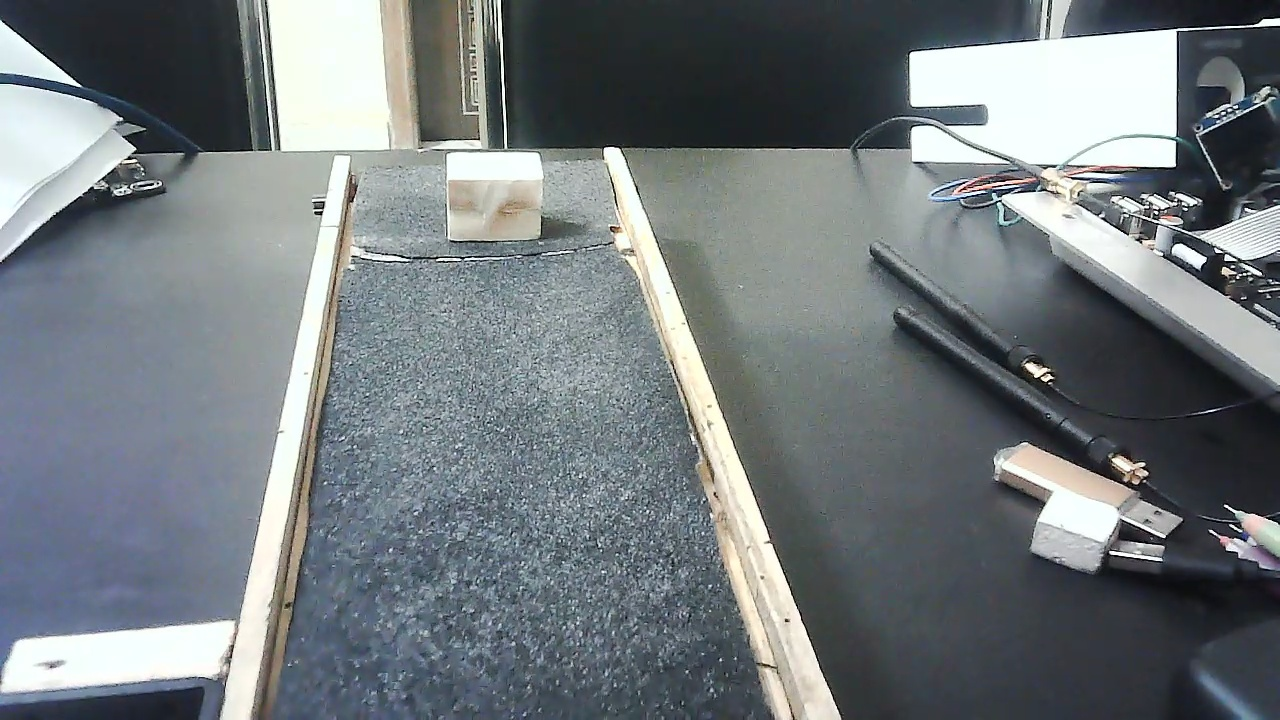Medium: (446, 149, 544, 247)
